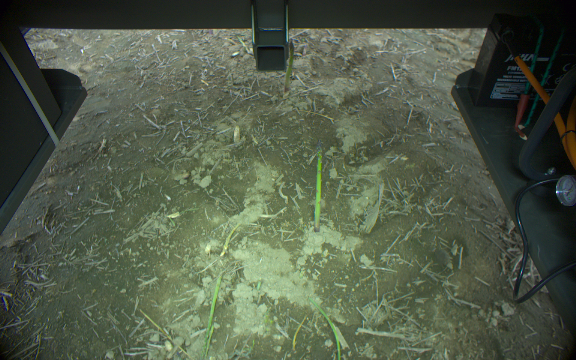aspa: (201, 267, 230, 360), (302, 296, 343, 360), (312, 136, 322, 233), (284, 38, 295, 93)
